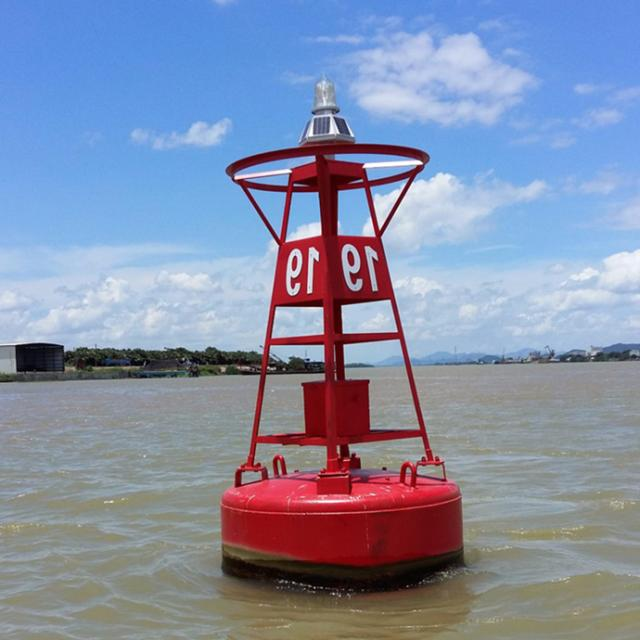buoy: (193, 70, 470, 585)
